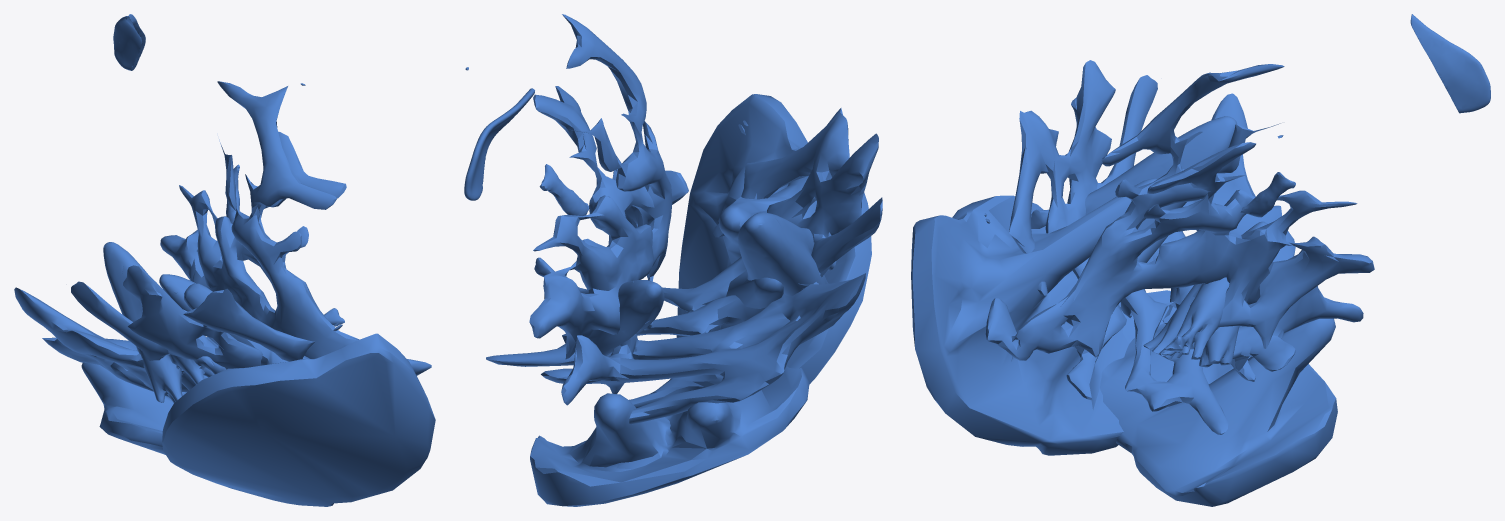
The model's file is bilikKananDalam.glb.
3 views of the same model, side by side, from view 1: azimuth 30°, elevation 25°; view 2: azimuth 150°, elevation 25°; view 3: azimuth 270°, elevation 25° (orthographic). The views are drawn at different scales.
Visible parts, largest first — view 1: MM564_BP51832_FMA7270_Trabecula carnea of right ventricle; view 2: MM564_BP51832_FMA7270_Trabecula carnea of right ventricle; view 3: MM564_BP51832_FMA7270_Trabecula carnea of right ventricle.
Part boxes in pixels (bbox=[...]): MM564_BP51832_FMA7270_Trabecula carnea of right ventricle: bbox=[14, 14, 435, 506]; MM564_BP51832_FMA7270_Trabecula carnea of right ventricle: bbox=[464, 14, 882, 506]; MM564_BP51832_FMA7270_Trabecula carnea of right ventricle: bbox=[911, 14, 1490, 506].
Size of the model in its own units: 0.0438 by 0.053 by 0.0619.
